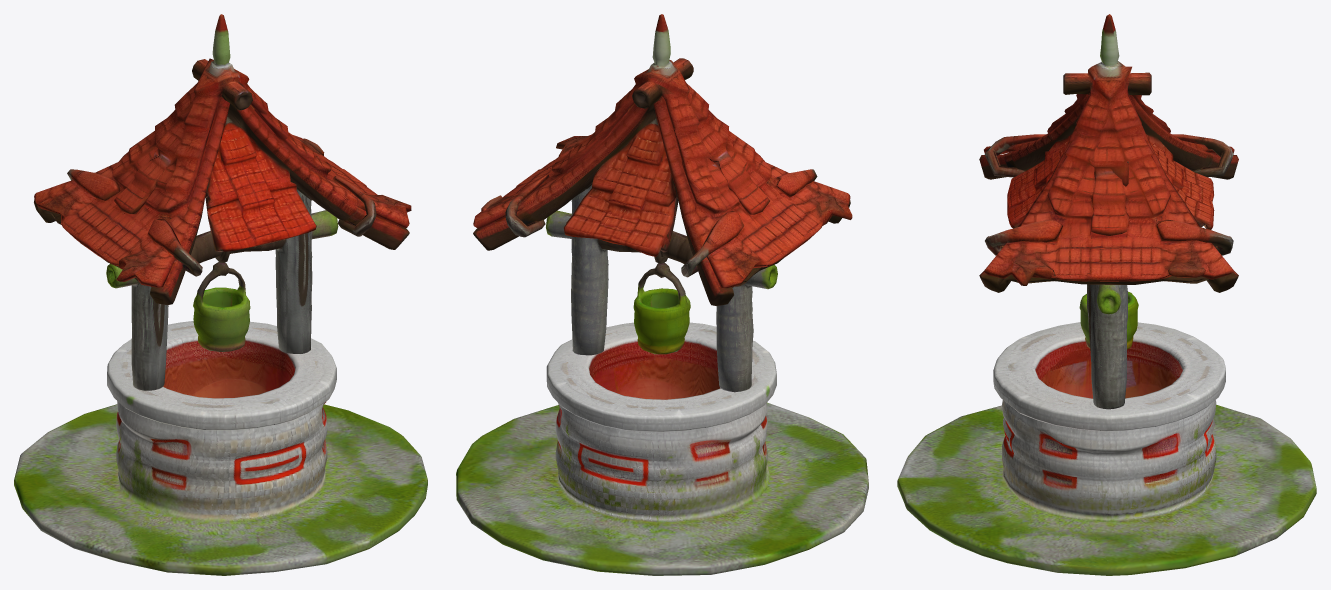
Rendered from well_v2.glb.
3 renders of one model, left to right at view 1: azimuth 30°, elevation 25°; view 2: azimuth 150°, elevation 25°; view 3: azimuth 270°, elevation 25°, orthographic.
Size of the model in its own units: 1.52 by 1.91 by 1.52.
Materials: 1 (1 with a texture image).
